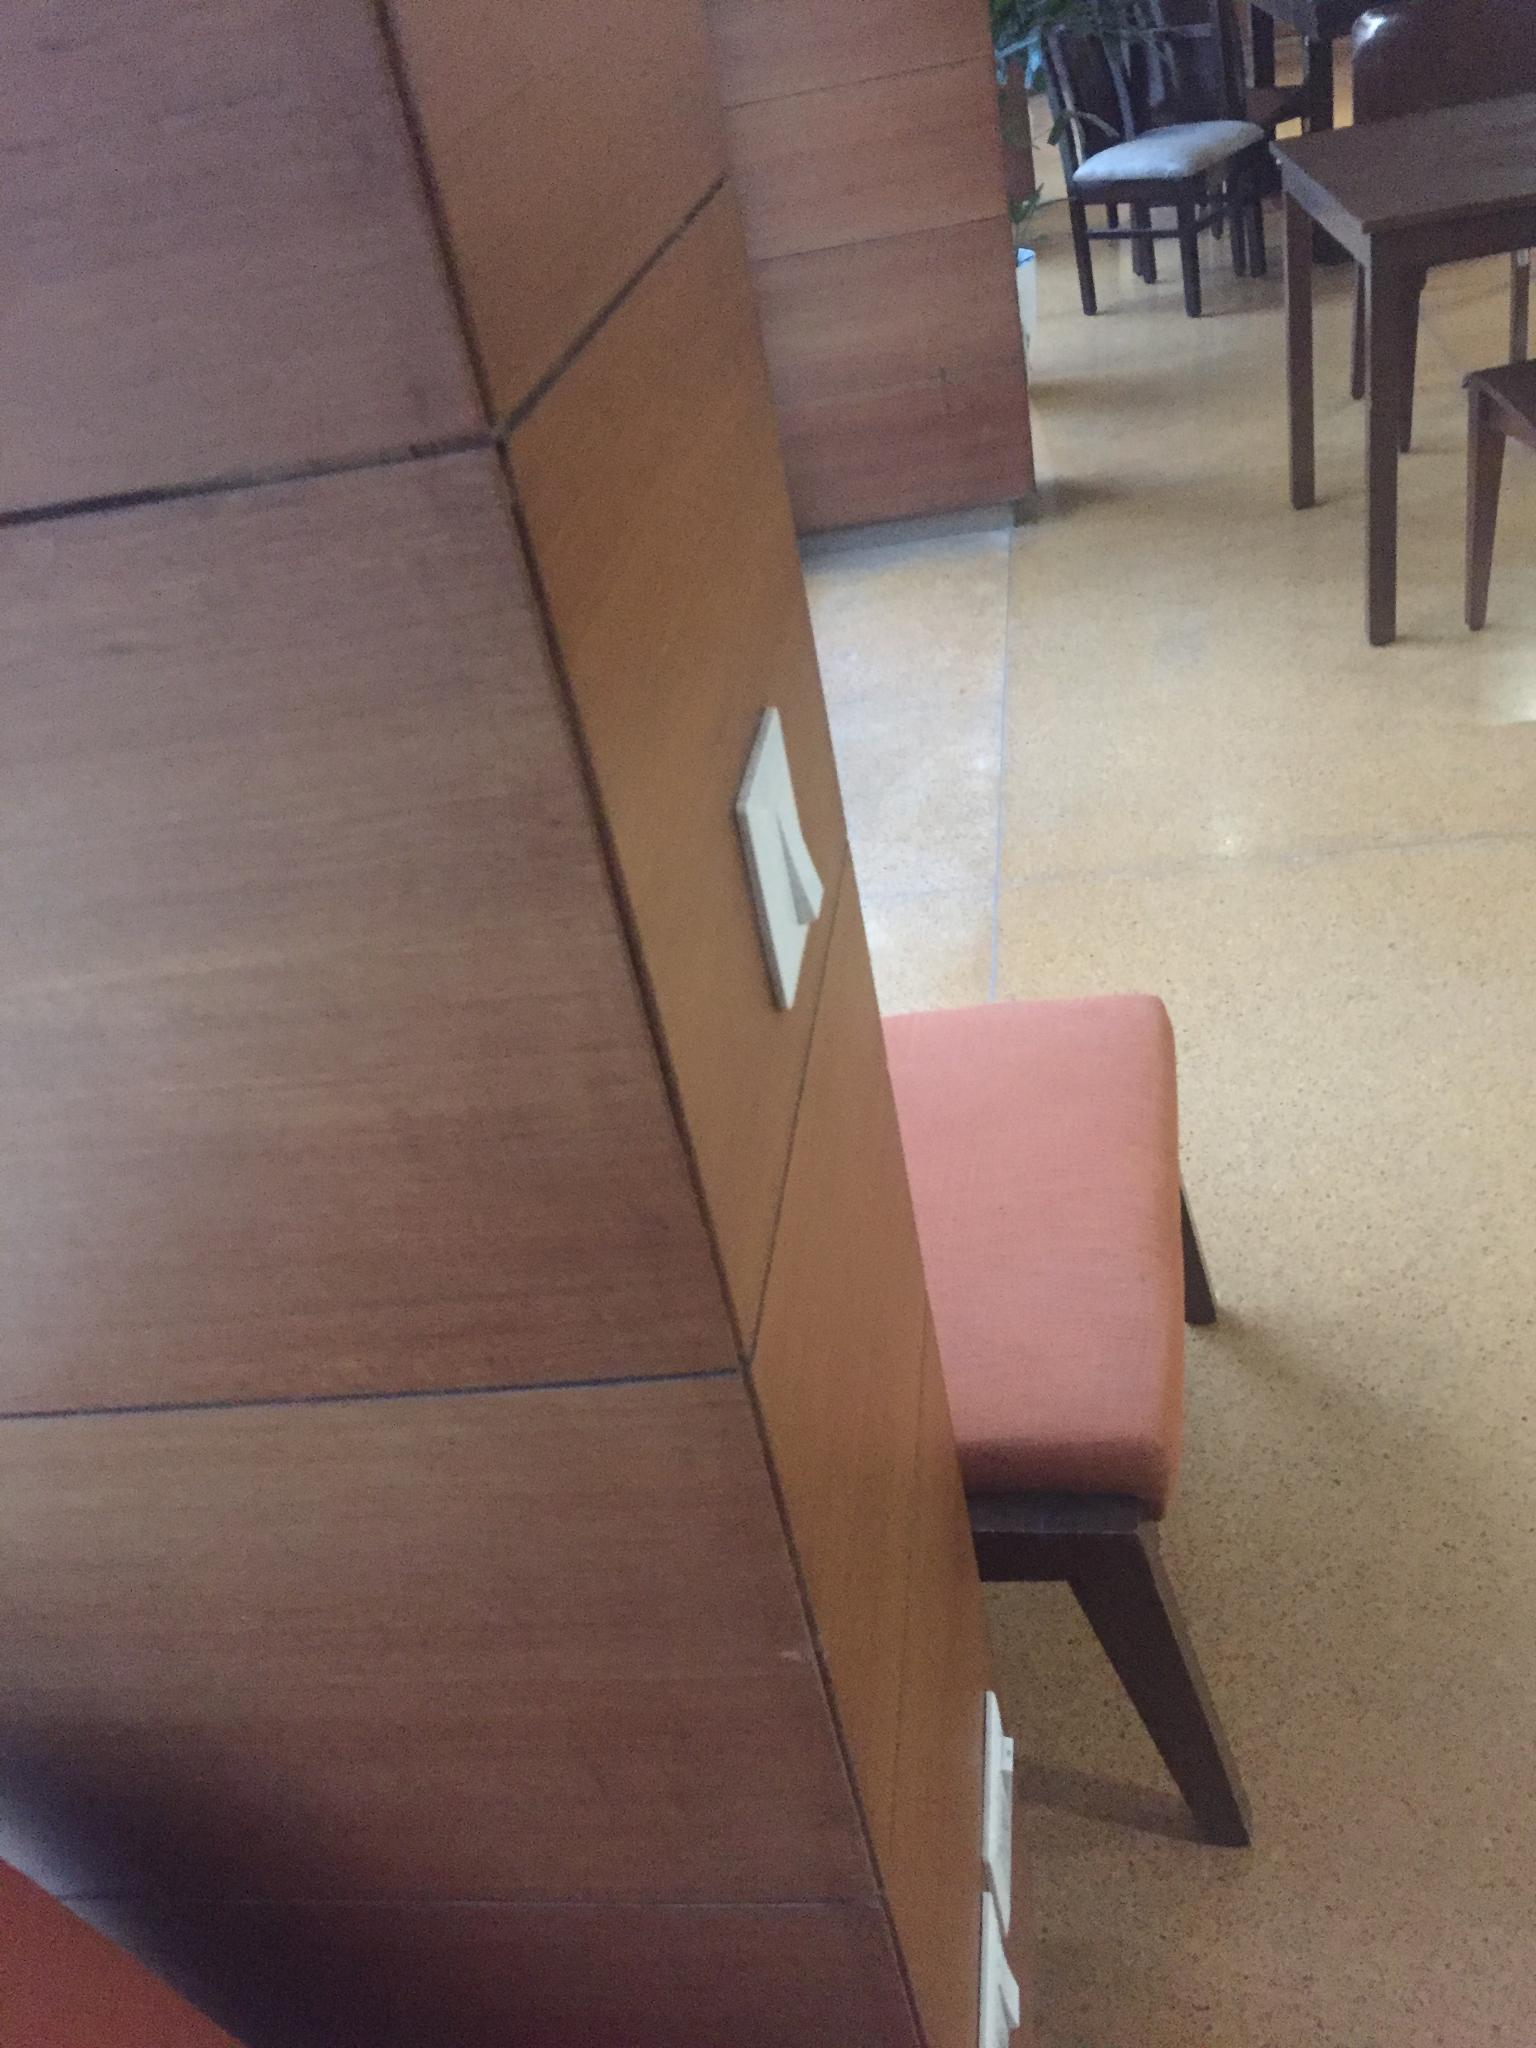chair: (881, 990, 1254, 1848), (1039, 18, 1270, 318), (1441, 264, 1536, 627)
